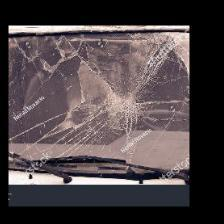glass_shatter: (56, 64, 158, 139)
